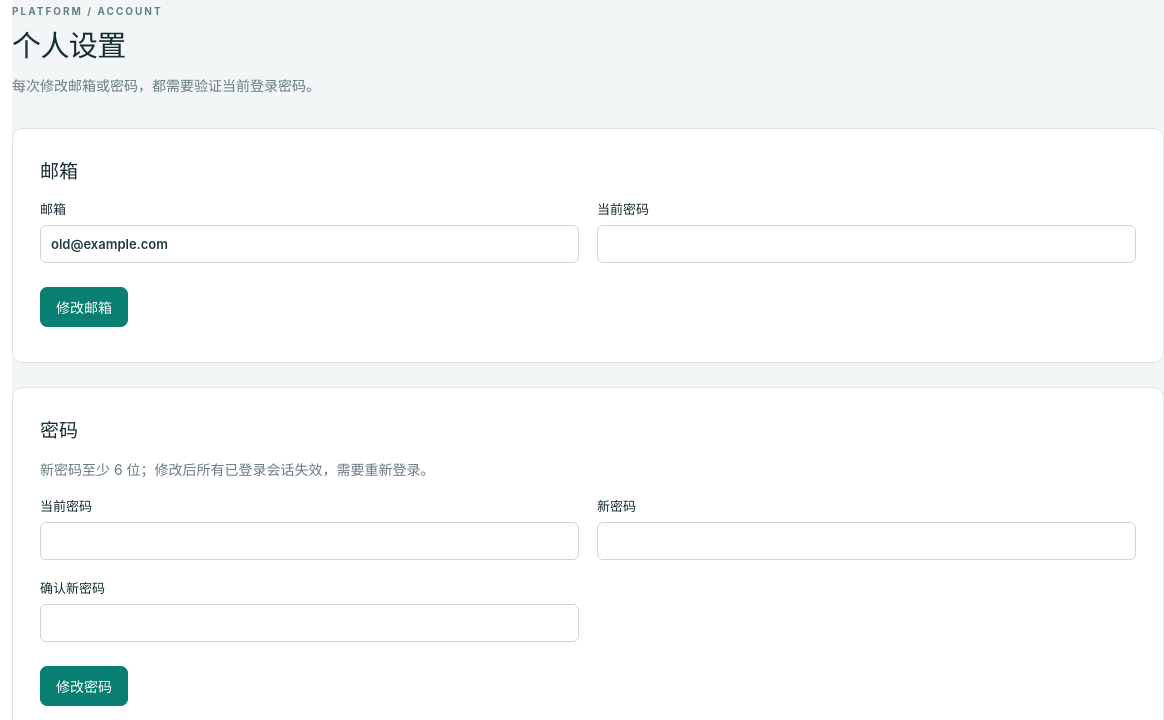
Test: successful password change returns to login
The width and height of the screenshot is (1164, 720).
In the password field named "修改密码的当前密码": (310, 541) [40,522,579,560], type "123456"
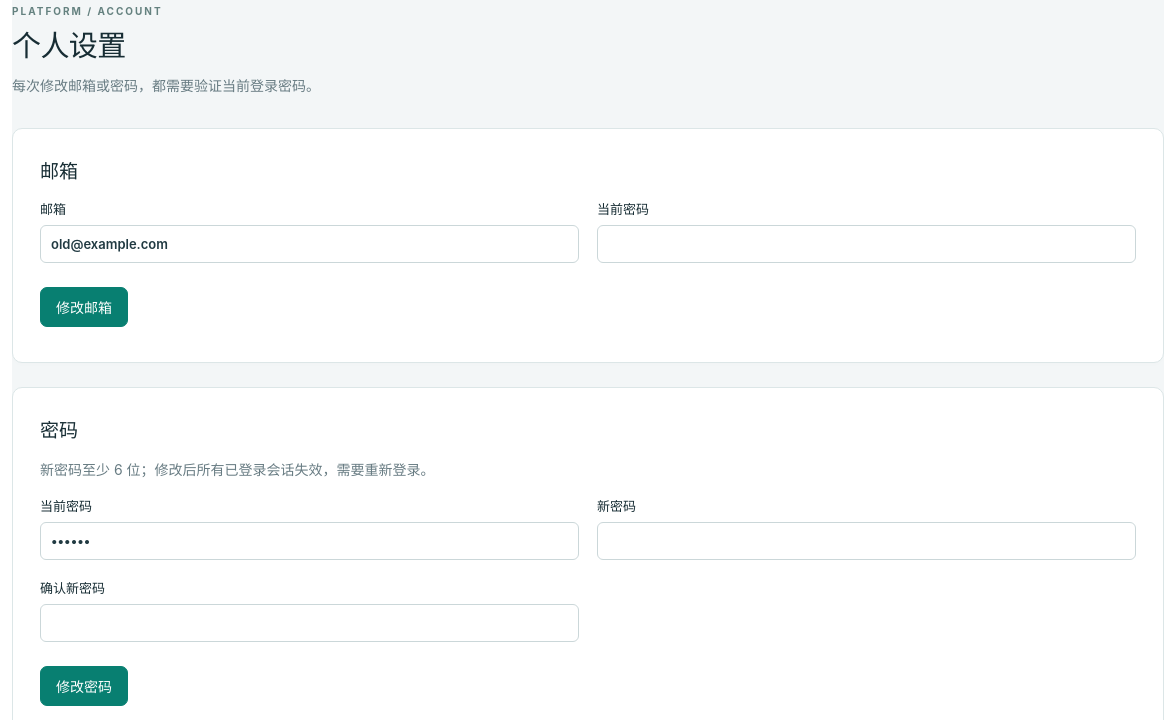
In the password field labelled "新密码": (866, 541) [597,522,1136,560], type "new-password-123"
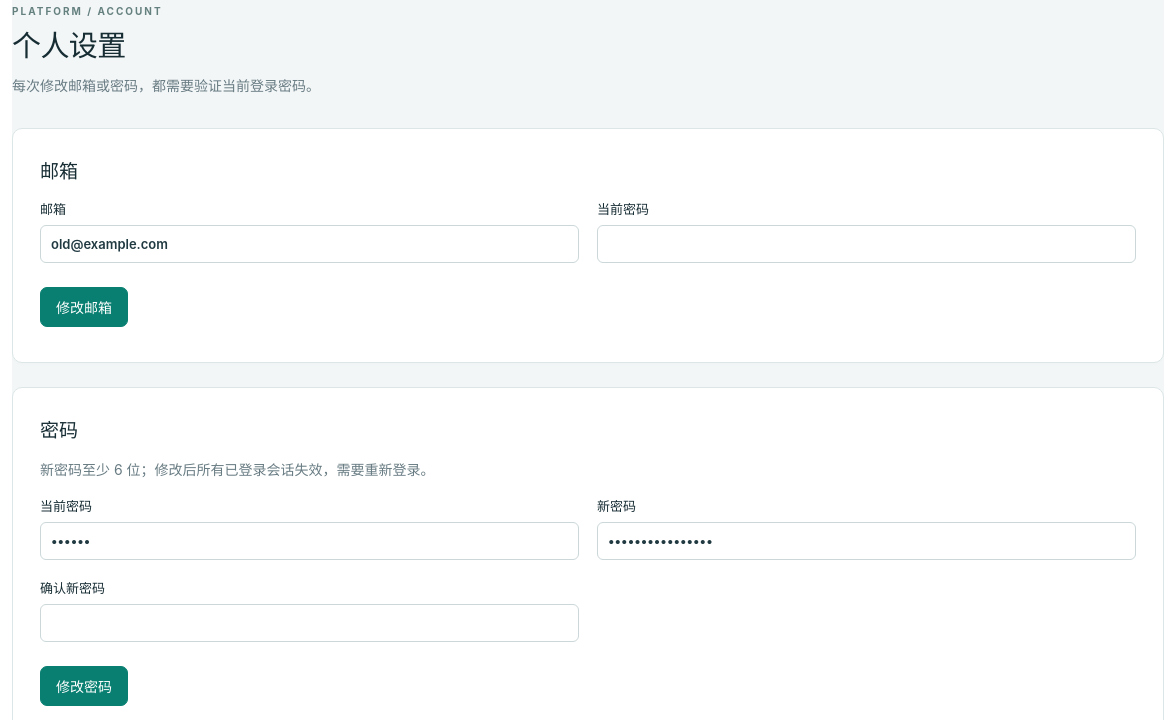
In the password field labelled "确认新密码": (310, 623) [40,604,579,642], type "new-password-123"
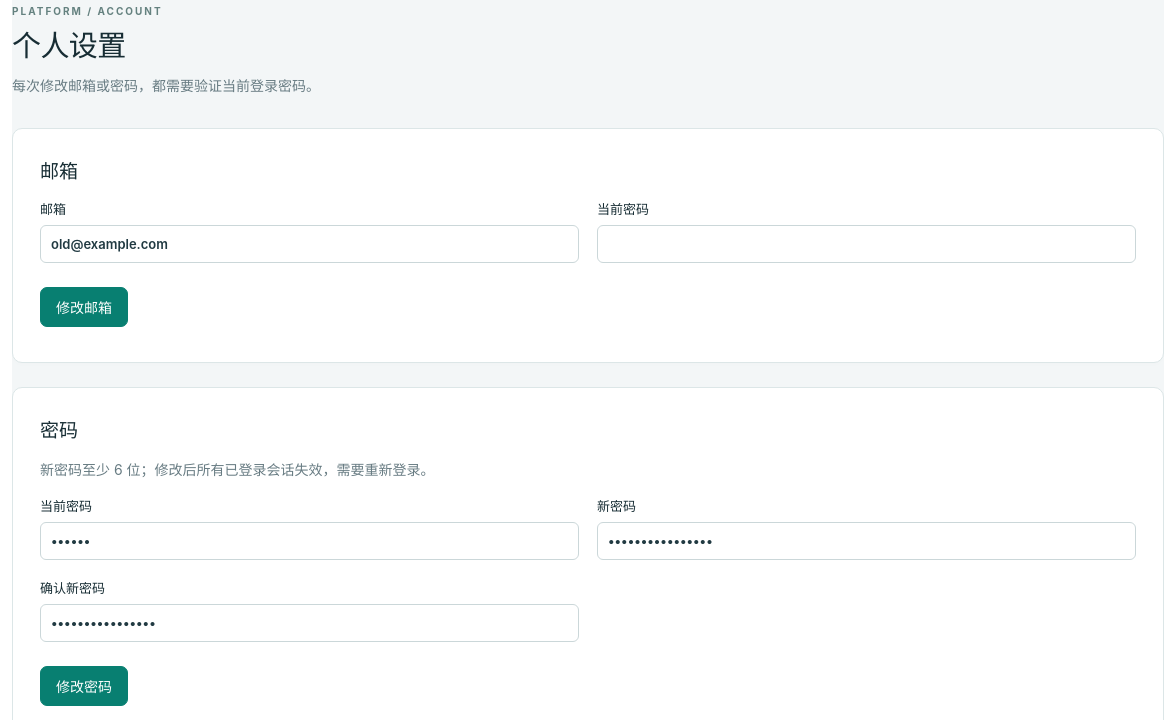
Click the button "修改密码": (84, 686) [40,666,128,706]
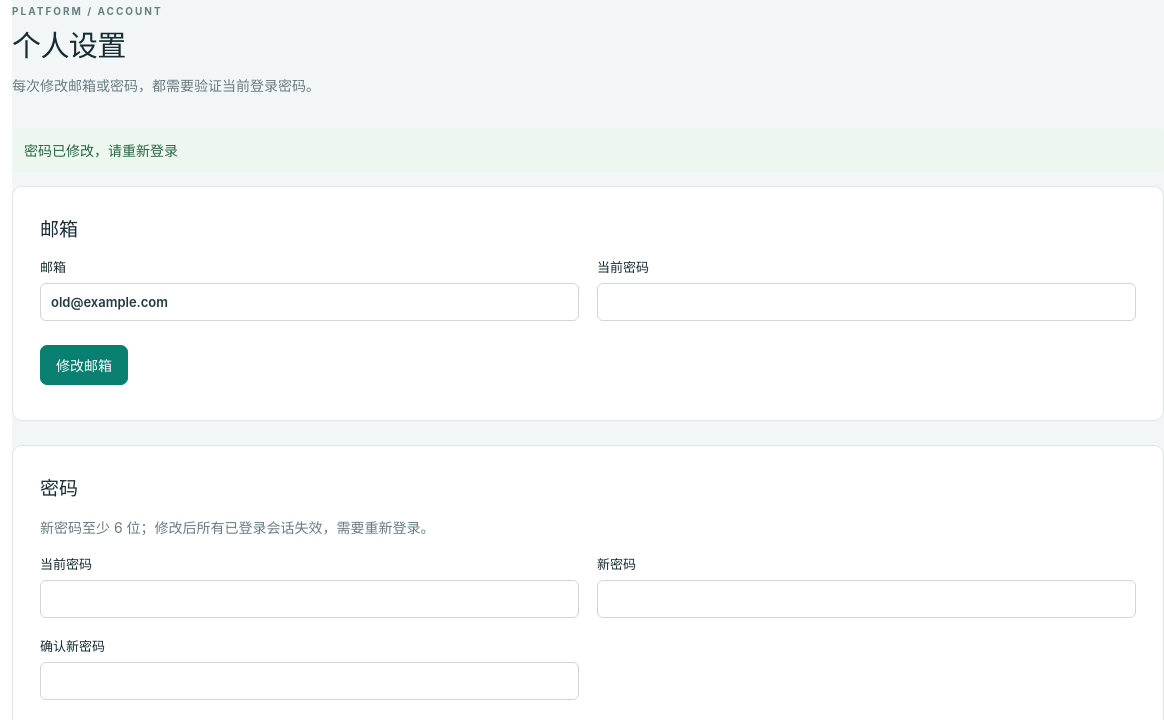
Result: the message "密码已修改，请重新登录" is shown at [12,128,1163,172]
